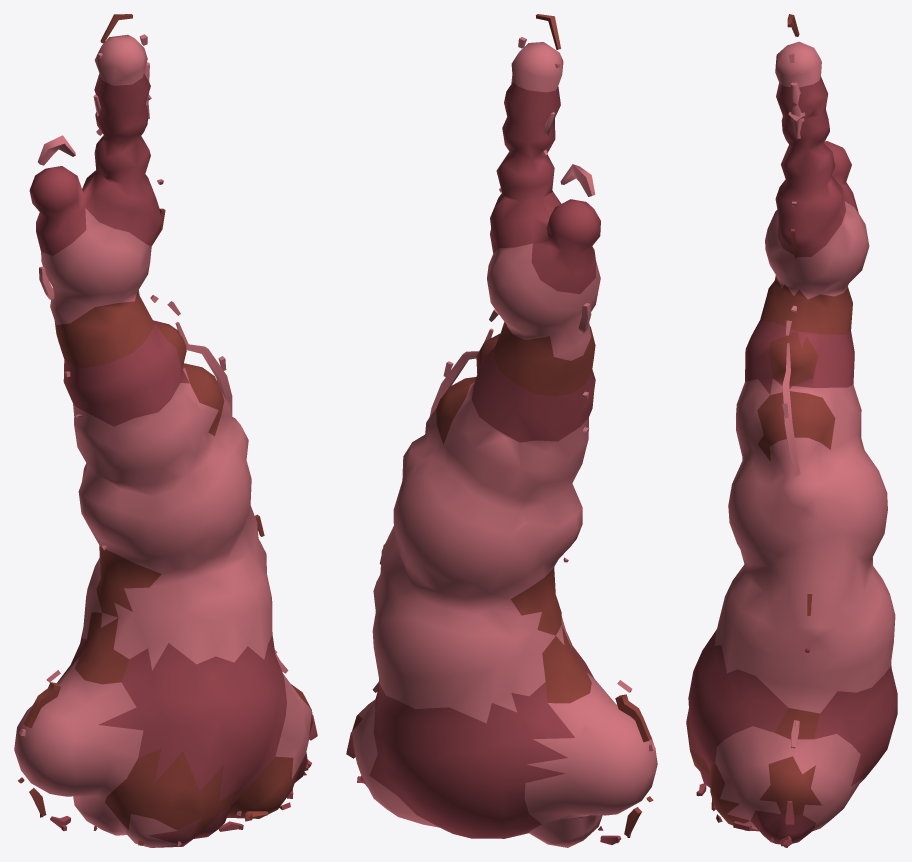
Rendered from lickmaw.glb.
3 renders of one model, left to right at view 1: azimuth 30°, elevation 25°; view 2: azimuth 150°, elevation 25°; view 3: azimuth 270°, elevation 25°, orthographic. The views are drawn at different scales.
Parts seen in each view (by area): view 1: body; view 2: body; view 3: body.
Boxes of the visible parts, x1=… form: body: x1=14, y1=14, x2=317, y2=847; body: x1=346, y1=14, x2=657, y2=847; body: x1=686, y1=14, x2=897, y2=847.
Bounding box in the file's own units: 2.01 × 5.24 × 1.32.
